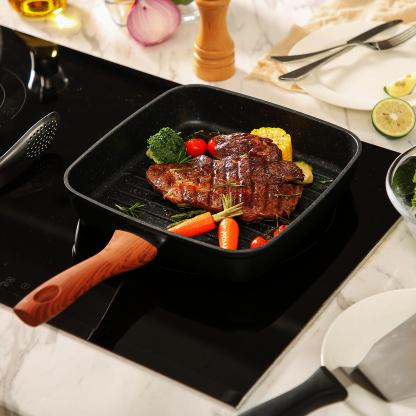Carne: (149, 160, 305, 208), (205, 131, 281, 171)
